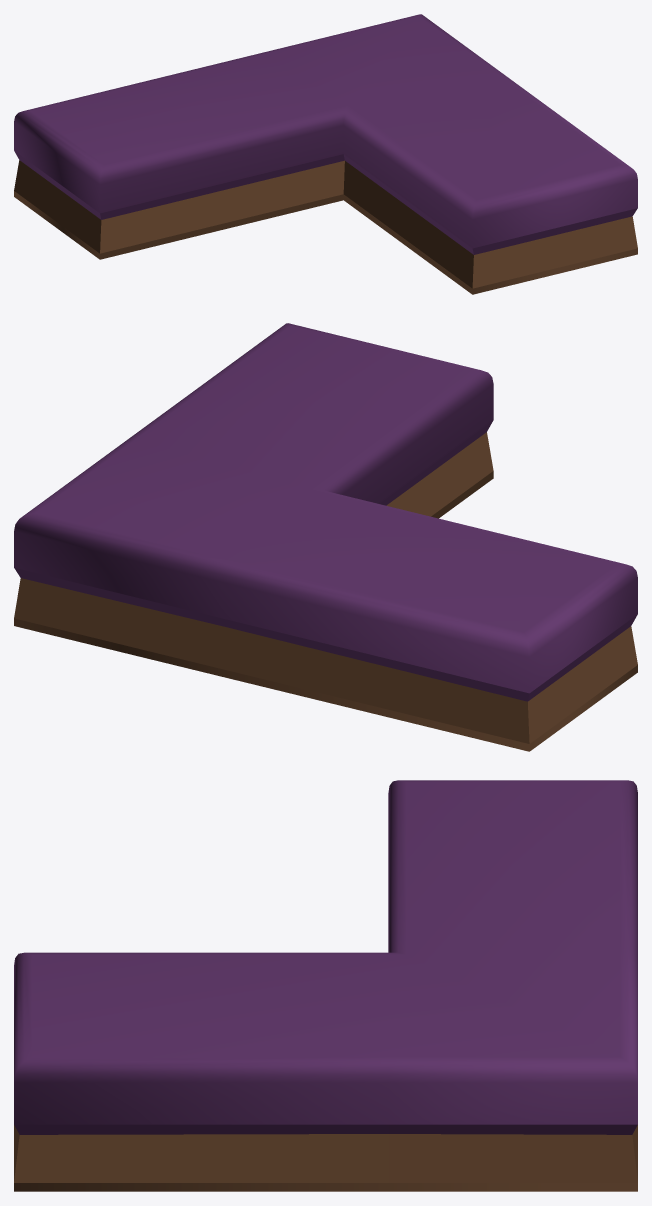
The model's file is ME_SE_LoungeSofaCorner01.fbx.
The picture shows the model from 3 angles, top to bottom: view 1: azimuth 30°, elevation 25°; view 2: azimuth 150°, elevation 25°; view 3: azimuth 270°, elevation 25°; orthographic projection. The views are drawn at different scales.
Parts seen in each view (by area): view 1: ME_SE_LoungeSofaCorner01; view 2: ME_SE_LoungeSofaCorner01; view 3: ME_SE_LoungeSofaCorner01.
Part boxes in pixels (left/top/right/bottom): ME_SE_LoungeSofaCorner01: left=14, top=14, right=637, bottom=294; ME_SE_LoungeSofaCorner01: left=14, top=323, right=637, bottom=751; ME_SE_LoungeSofaCorner01: left=14, top=780, right=637, bottom=1191.
Size of the model in its own units: 19527 by 4000 by 17781.
